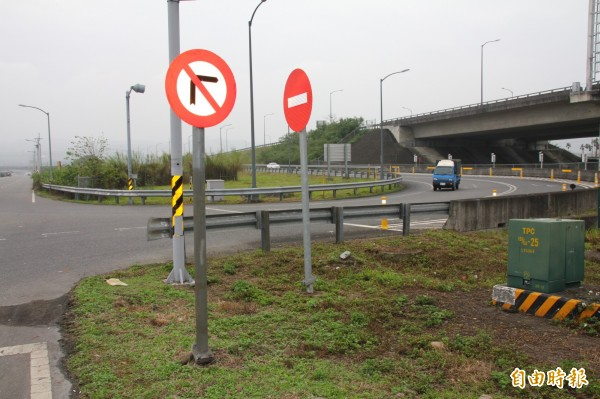No_right_turn: (166, 49, 236, 128)
